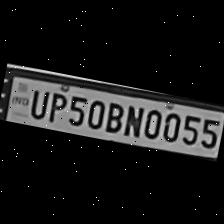0: (83, 94, 108, 130), (140, 104, 164, 140), (160, 108, 184, 143)
5: (63, 90, 89, 126), (197, 114, 223, 150), (178, 110, 202, 146)
B: (103, 97, 127, 134)
N: (121, 100, 145, 138)
P: (44, 86, 69, 124)
U: (25, 84, 50, 119)
